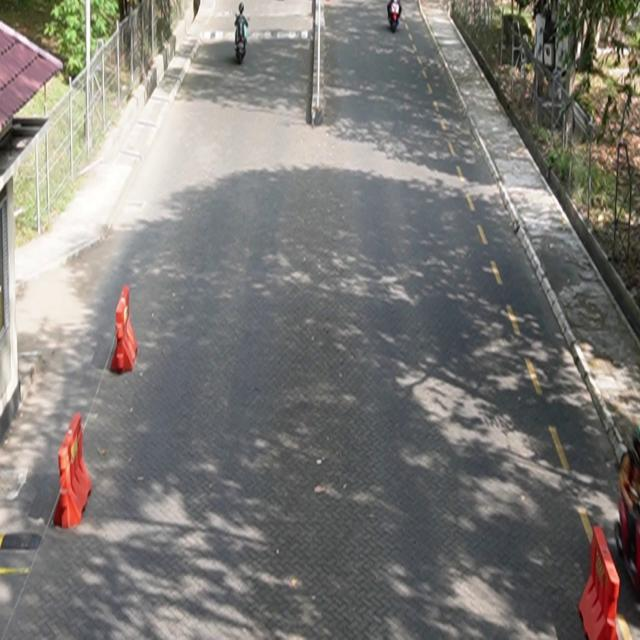car: (615, 424, 640, 597)
